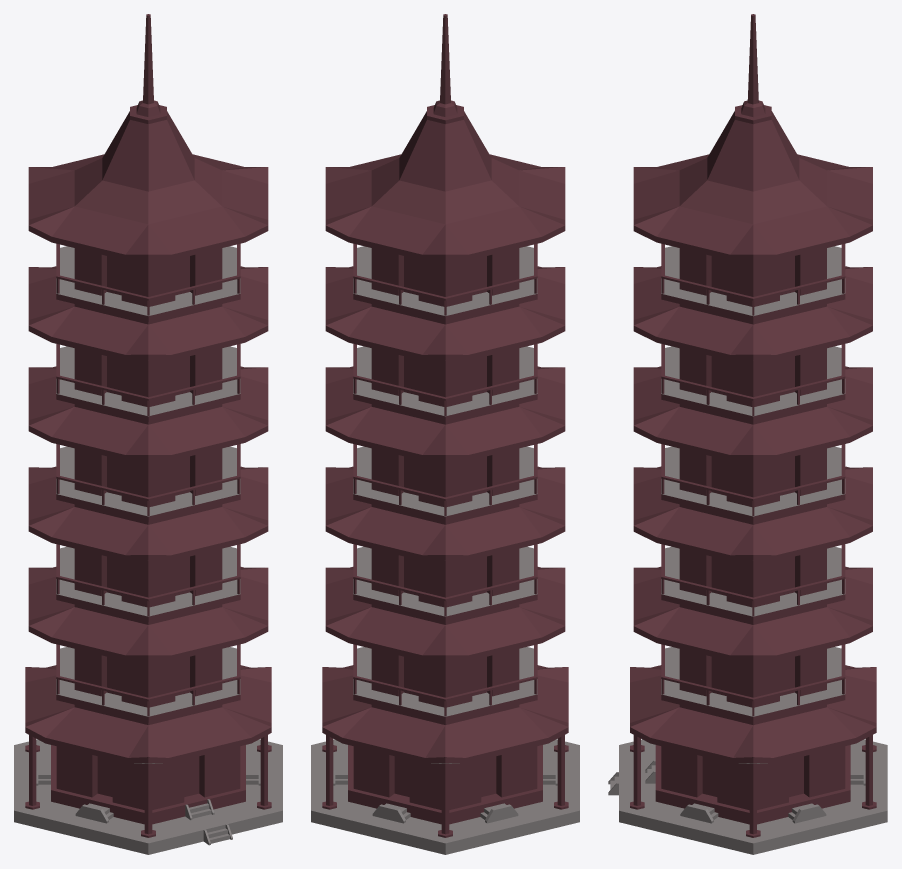
File: building-pagoda-china.fbx
3 renders of one model, left to right at view 1: azimuth 30°, elevation 25°; view 2: azimuth 150°, elevation 25°; view 3: azimuth 270°, elevation 25°, orthographic.
Visible parts, largest first — view 1: building-pagoda-china; view 2: building-pagoda-china; view 3: building-pagoda-china.
Boxes of the visible parts, x1,y1,x2,y2 form: building-pagoda-china: (14,14,282,854); building-pagoda-china: (311,14,579,854); building-pagoda-china: (608,14,887,854).
Bounding box in the file's own units: 14.6 × 40.2 × 13.14.
